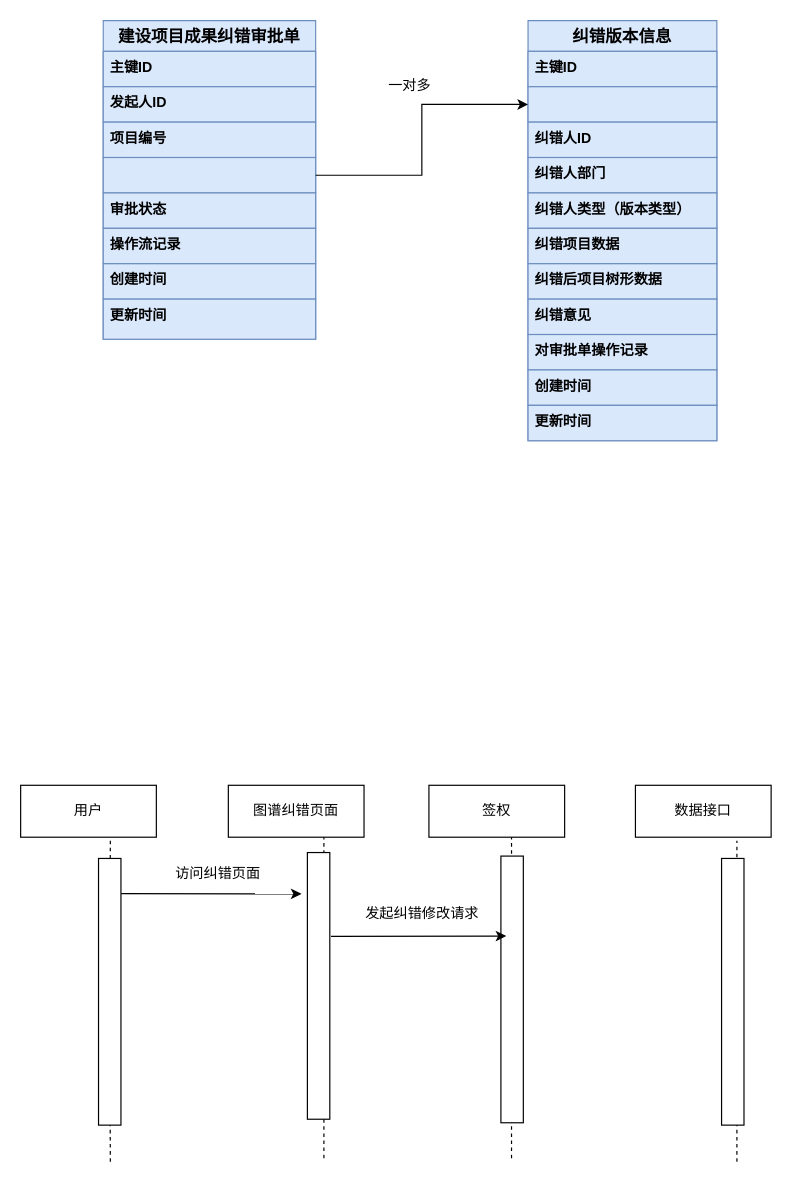
This 792x1184 diagram has some shape labels left out. Here are the shapes that lost their labels. From the top down, the centre of each, then its label:
At pixel 622 104: "纠错单ID".
At pixel 209 174: "当前审批人ID".
